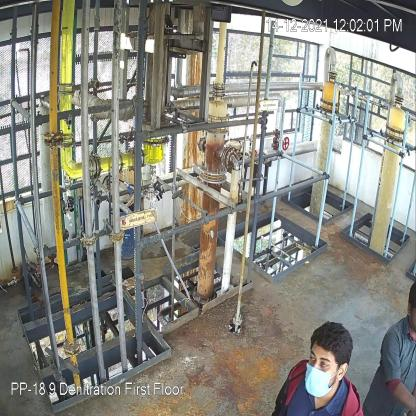no_goggles: (308, 352, 332, 370)
